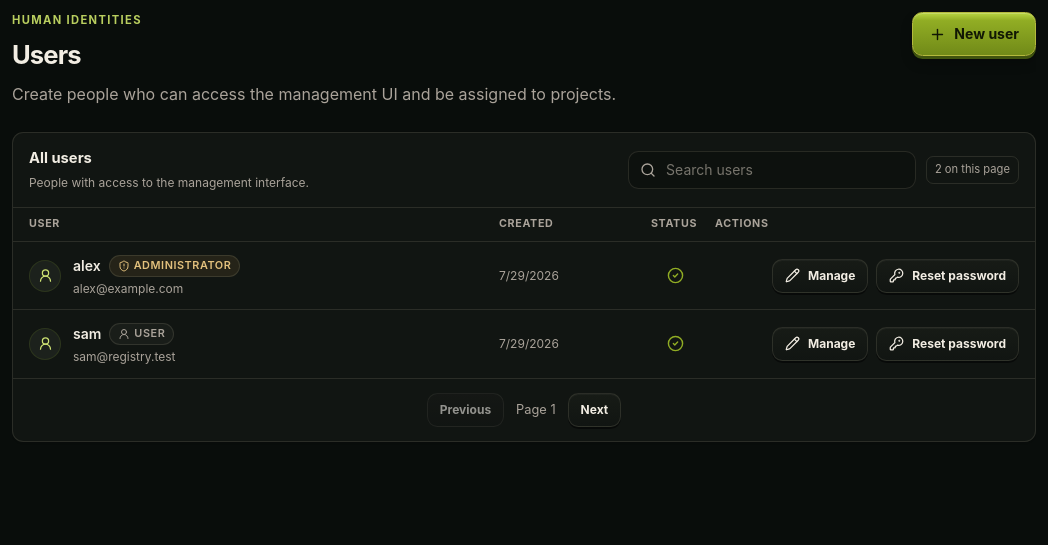
Test: UsersPage › shows an empty search state when no user matches
In the search field named "Search users": coordinates (772, 170) [628,151,916,189], type "missing"
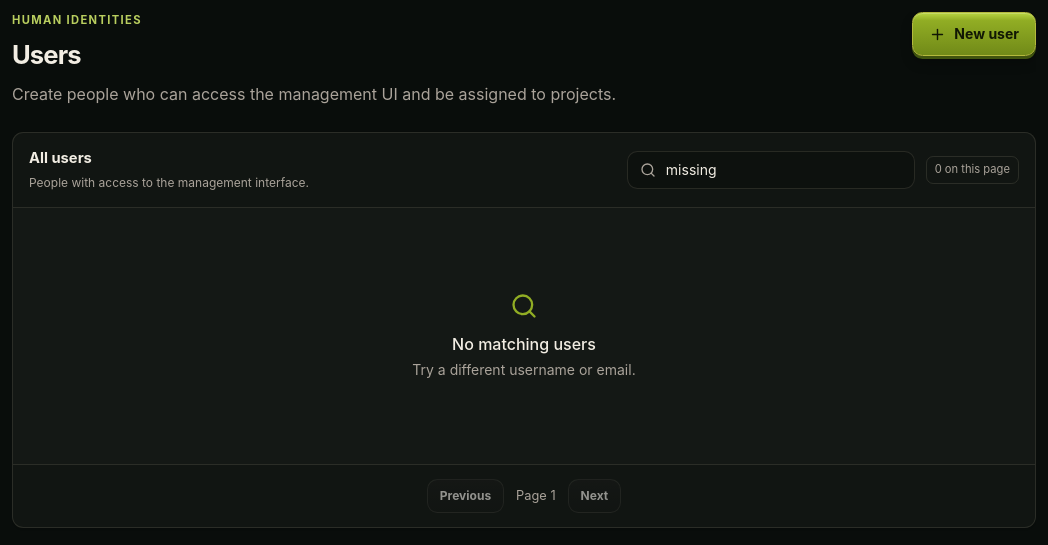
Expected: the text "No matching users" is shown, [452,334,596,354]
Expected: the text "0 on this page" is shown, [926,156,1019,184]
